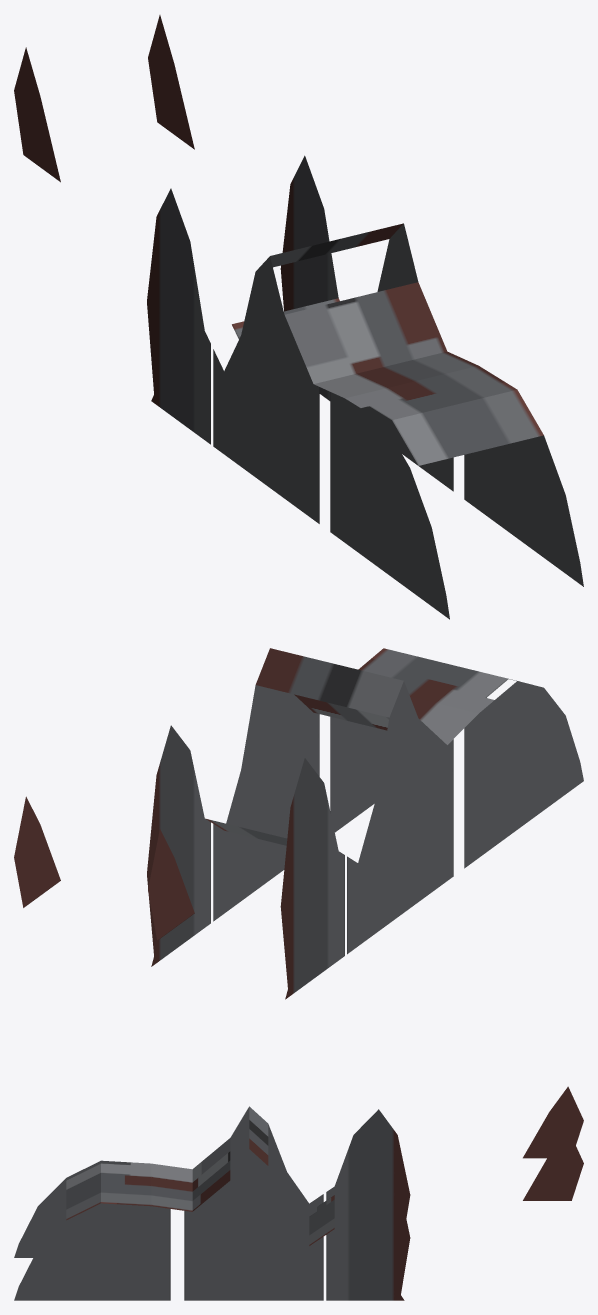
The model's file is section-0.obj.
The picture shows the model from 3 angles, top to bottom: view 1: azimuth 30°, elevation 25°; view 2: azimuth 150°, elevation 25°; view 3: azimuth 270°, elevation 25°; orthographic projection. The views are drawn at different scales.
Bounding box in the file's own units: 0.2944 × 0.552 × 1.66.
